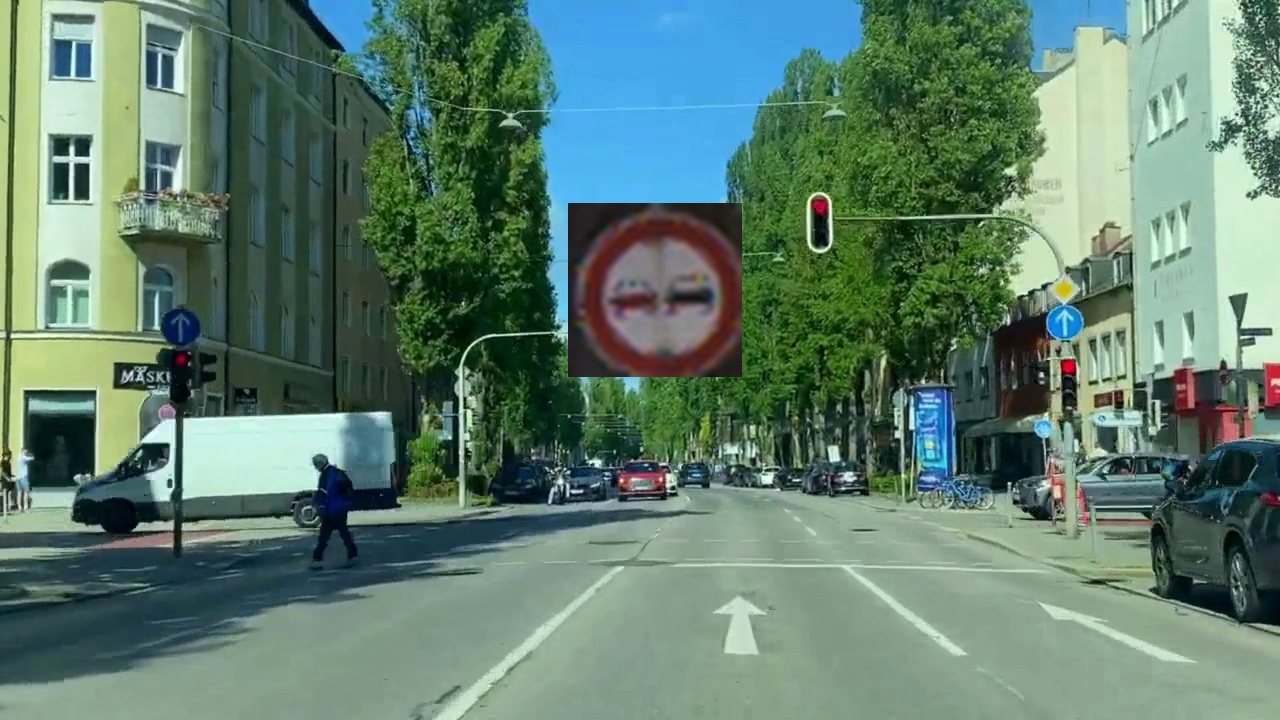No passing: (568, 203, 742, 377)
